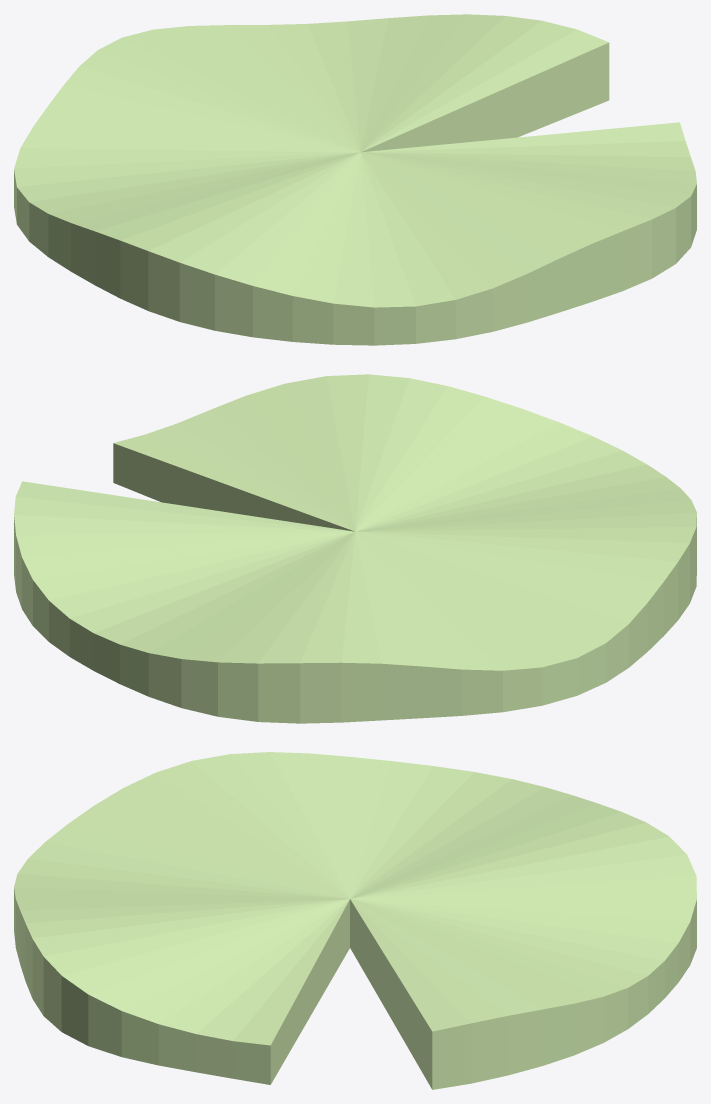
File: lily_pad_small.glb
The picture shows the model from 3 angles, top to bottom: view 1: azimuth 30°, elevation 25°; view 2: azimuth 150°, elevation 25°; view 3: azimuth 270°, elevation 25°; orthographic projection.
Parts seen in each view (by area): view 1: lily_pad_small_00; view 2: lily_pad_small_00; view 3: lily_pad_small_00.
Part boxes in pixels (box(x1,y1,x2,y2)): lily_pad_small_00: box(14, 14, 696, 345); lily_pad_small_00: box(14, 374, 696, 723); lily_pad_small_00: box(14, 752, 696, 1089).
Bounding box in the file's own units: 0.7497 × 0.0739 × 0.7586.
